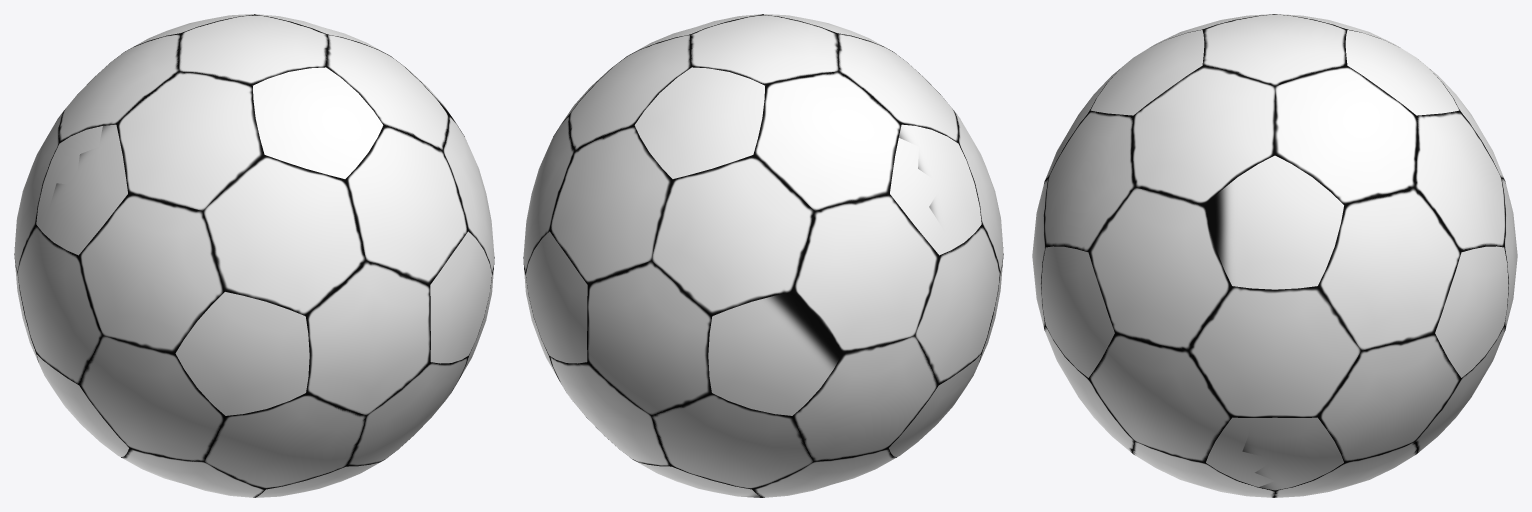
Rendered from Ball.glb.
The picture shows the model from 3 angles, left to right: view 1: azimuth 30°, elevation 25°; view 2: azimuth 150°, elevation 25°; view 3: azimuth 270°, elevation 25°; orthographic projection.
Visible parts, largest first — view 1: Icosphere.013; view 2: Icosphere.013; view 3: Icosphere.013.
Boxes of the visible parts, x1,y1,x2,y2 form: Icosphere.013: (14, 14, 494, 497); Icosphere.013: (523, 14, 1003, 497); Icosphere.013: (1032, 14, 1517, 497).
Bounding box in the file's own units: 1.85 × 1.85 × 1.85.
1 material, 1 textured.
